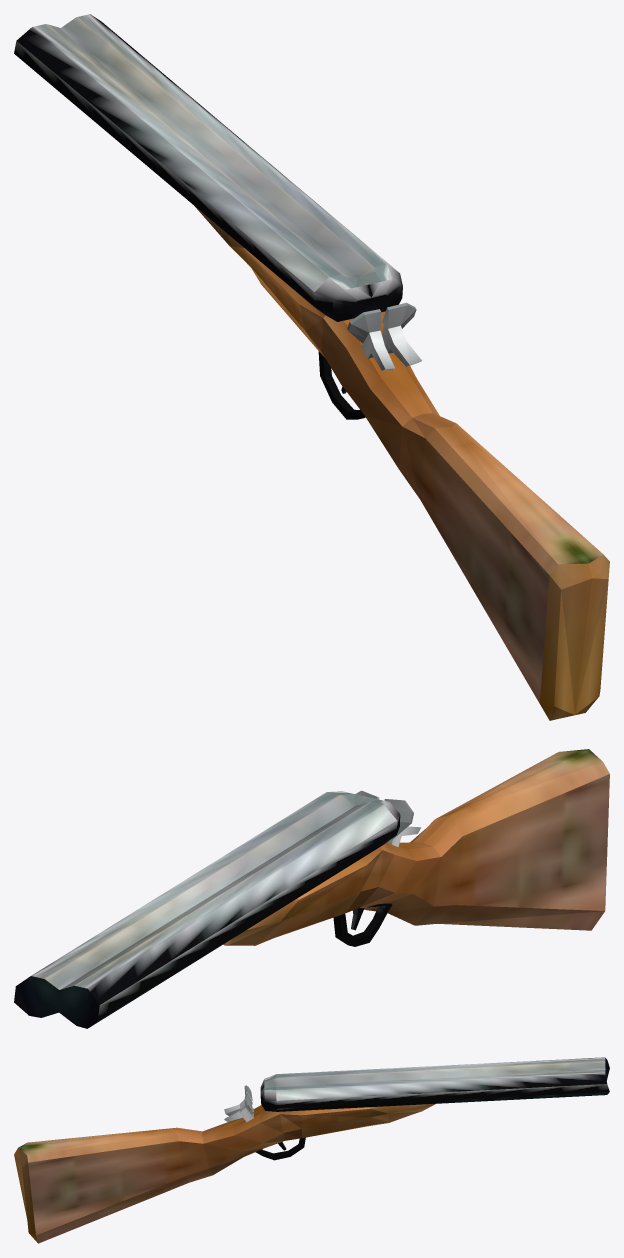
The model's file is shoot0026.obj.
3 views of the same model, one above another, from view 1: azimuth 30°, elevation 25°; view 2: azimuth 150°, elevation 25°; view 3: azimuth 270°, elevation 25° (orthographic). The views are drawn at different scales.
Visible parts, largest first — view 1: Cube, Cube.001, Cube.003, Cube.002; view 2: Cube, Cube.001, Cube.002, Cube.003; view 3: Cube, Cube.001, Cube.003, Cube.002.
Part boxes in pixels (bbox=[...]): Cube: bbox=[195, 206, 609, 720]; Cube.001: bbox=[14, 14, 402, 321]; Cube.003: bbox=[347, 302, 421, 370]; Cube.002: bbox=[318, 351, 365, 419]; Cube: bbox=[223, 749, 609, 945]; Cube.001: bbox=[14, 791, 400, 1028]; Cube.002: bbox=[333, 903, 392, 946]; Cube.003: bbox=[355, 790, 420, 846]; Cube: bbox=[14, 1104, 435, 1243]; Cube.001: bbox=[260, 1057, 609, 1111]; Cube.003: bbox=[224, 1085, 253, 1121]; Cube.002: bbox=[255, 1137, 305, 1160].
Bounding box in the file's own units: 0.2096 × 0.7333 × 2.25.
1 material, 1 textured.
